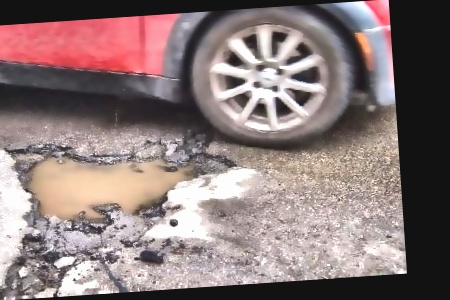pothole: (1, 128, 240, 230)
